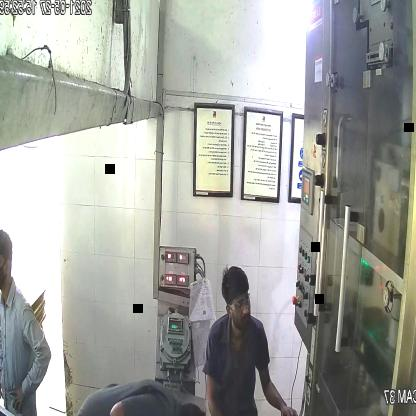goggles: (225, 290, 256, 312)
no_goggles: (0, 253, 10, 270)
